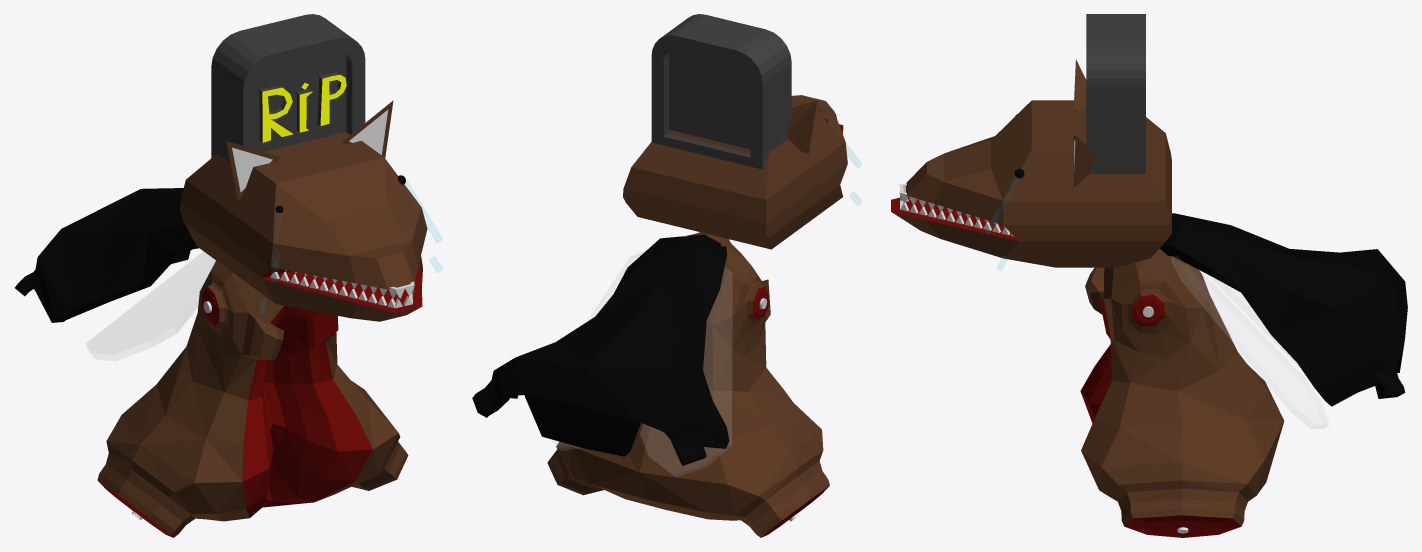
File: литунка.fbx
3 views of the same model, side by side, from view 1: azimuth 30°, elevation 25°; view 2: azimuth 150°, elevation 25°; view 3: azimuth 270°, elevation 25° (orthographic). The views are drawn at different scales.
Parts seen in each view (by area): view 1: Cube.001, Cube, Cube.005, Cube.002, Plane, Cube.003, Cube.008; view 2: Cube.002, Cube.001, Cube, Cube.005, Plane, Cube.003; view 3: Cube.001, Cube, Cube.002, Cube.005, Plane, Cube.003, Cube.008.
Part boxes in pixels (x1,y1,x2,y2): Cube.001: (97, 260, 408, 537); Cube: (180, 132, 427, 321); Cube.005: (211, 14, 365, 161); Cube.002: (14, 188, 198, 322); Plane: (86, 252, 215, 360); Cube.003: (226, 100, 393, 200); Cube.008: (270, 271, 412, 308); Cube.002: (472, 234, 729, 465); Cube.001: (547, 232, 829, 537); Cube: (623, 95, 847, 249); Cube.005: (651, 14, 791, 169); Plane: (550, 250, 731, 476); Cube.003: (787, 101, 816, 153); Cube.001: (1080, 248, 1284, 537); Cube: (891, 100, 1171, 267); Cube.002: (1159, 213, 1407, 406); Cube.005: (1086, 14, 1145, 174); Plane: (1171, 257, 1328, 428); Cube.003: (1073, 59, 1095, 187); Cube.008: (900, 198, 1013, 236).
Bounding box in the file's own units: 207 × 365 × 368.
